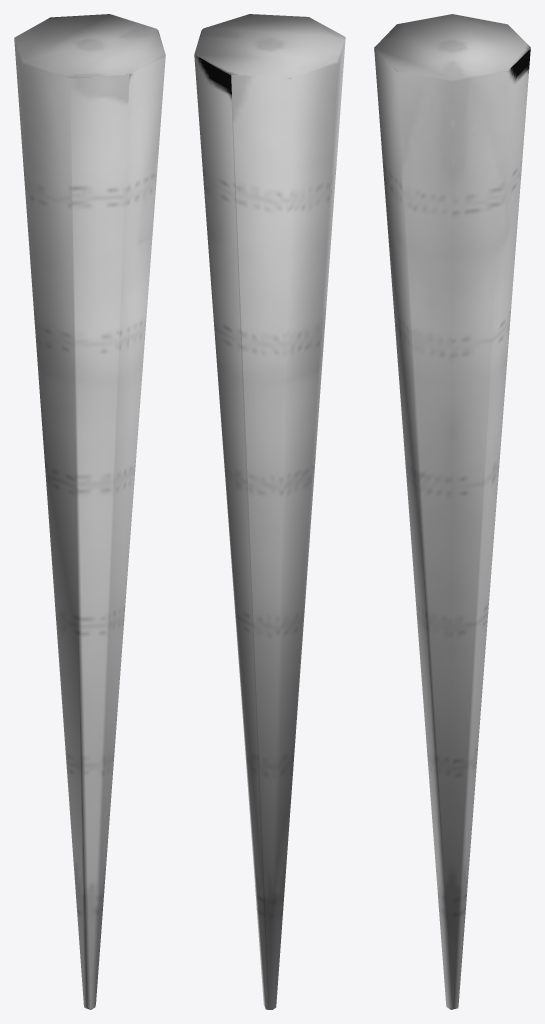
File: RightHand_C1.fbx
3 renders of one model, left to right at view 1: azimuth 30°, elevation 25°; view 2: azimuth 150°, elevation 25°; view 3: azimuth 270°, elevation 25°, orthographic.
Parts seen in each view (by area): view 1: Civ_ParaguasCerrado_RightHand_C1; view 2: Civ_ParaguasCerrado_RightHand_C1; view 3: Civ_ParaguasCerrado_RightHand_C1.
Boxes of the visible parts, x1,y1,x2,y2 form: Civ_ParaguasCerrado_RightHand_C1: (14, 14, 165, 1009); Civ_ParaguasCerrado_RightHand_C1: (194, 14, 345, 1009); Civ_ParaguasCerrado_RightHand_C1: (374, 14, 530, 1009).
Bounding box in the file's own units: 0.3185 × 2.14 × 0.3164.
